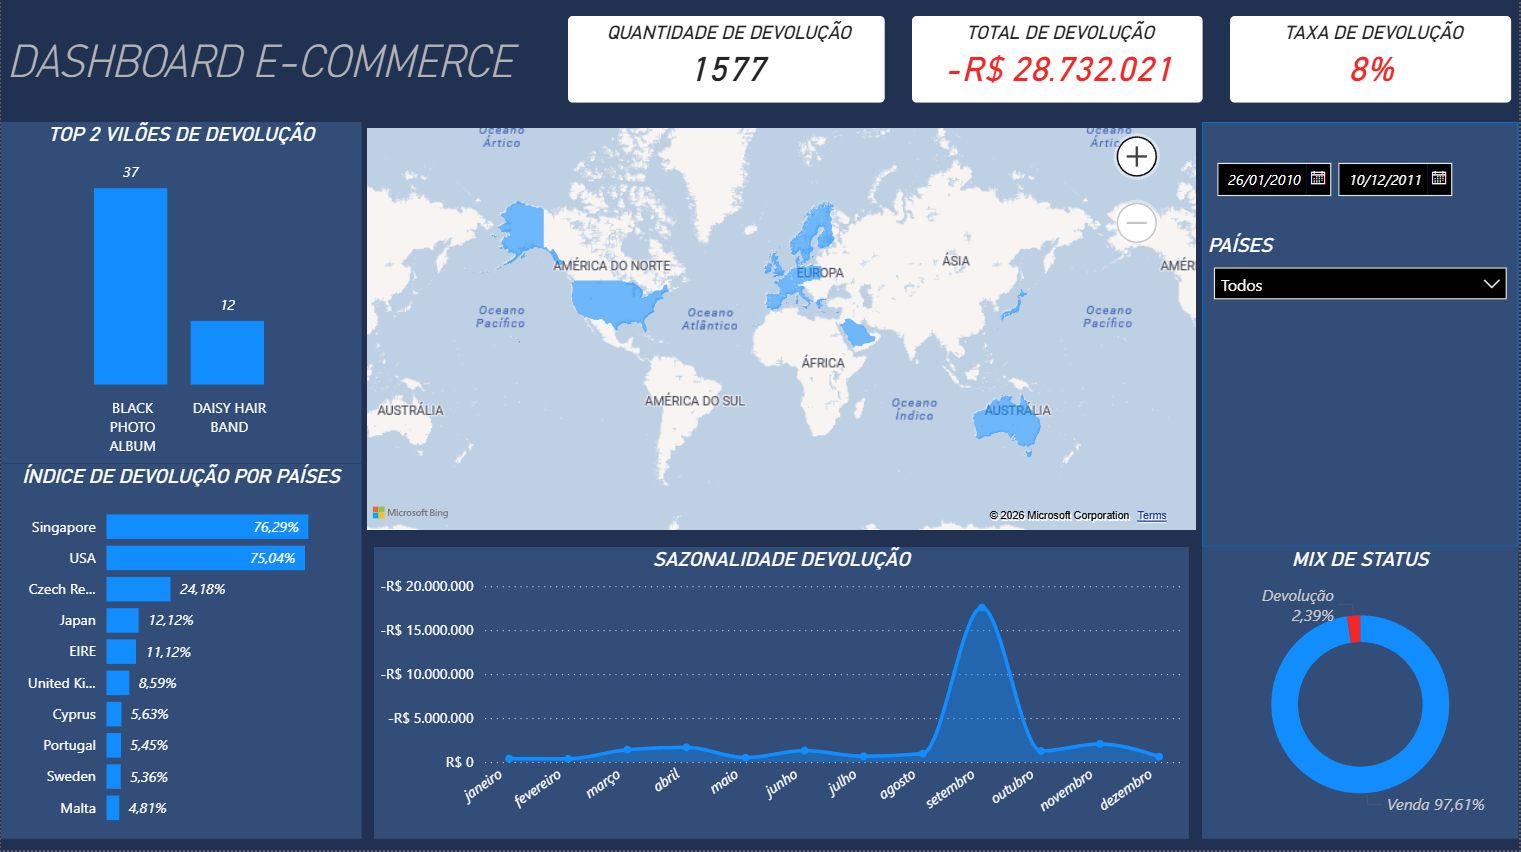

Layout of this report page (visuals, bound fields, positions):
{"tool":"powerbi","page":{"name":"ANÁLISE DE DEVOLUÇÃO","canvas":[1280,720],"ordinal":1},"visuals":[{"type":"barChart","title":"ÍNDICE DE DEVOLUÇÃO POR PAÍSES","fields":{"Category":["E_Commerce.Países"],"Y":["E_Commerce.Taxa_de_Devolucao %"]},"box":[0,394.9,303.6,316.1],"z":1},{"type":"card","title":"QUANTIDADE DE DEVOLUÇÃO","fields":{"Values":["E_Commerce.Qtd_Faturas_Devolvidas"]},"box":[478.2,17,266.9,73.4],"z":2},{"type":"columnChart","title":"TOP 2 VILÕES DE DEVOLUÇÃO","fields":{"Category":["E_Commerce.Descrição"],"Y":["E_Commerce.Total_DevoABS"]},"box":[0,106.6,303.6,288.4],"z":3},{"type":"areaChart","title":"SAZONALIDADE DEVOLUÇÃO","fields":{"Category":["E_Commerce.Data.Variation.Hierarquia de datas.Mês"],"Y":["E_Commerce.Total_Devolucoes"]},"box":[314.3,464.8,686.9,246.3],"z":4},{"type":"filledMap","fields":{"Category":["E_Commerce.Países"],"Y":["E_Commerce.Taxa_de_Devolucao %"]},"box":[303.6,106.6,709.3,349.3],"z":5},{"type":"donutChart","title":"MIX DE STATUS","fields":{"Category":["E_Commerce.Status"],"Y":["CountNonNull(E_Commerce.Faturamento)"]},"box":[1012.8,464.8,266.9,246.3],"z":6},{"type":"shape","box":[1012.8,106.6,266.9,358.2],"z":7},{"type":"slicer","fields":{"Values":["E_Commerce.Data"]},"box":[1012.8,130.7,266.9,69],"z":8},{"type":"card","title":"TOTAL DE DEVOLUÇÃO","fields":{"Values":["E_Commerce.Total_Devolucoes"]},"box":[768.4,17,245.4,73.4],"z":9},{"type":"card","title":"TAXA DE DEVOLUÇÃO","fields":{"Values":["E_Commerce.Taxa_de_Devolucao %"]},"box":[1036.1,17,243.6,73.4],"z":10},{"type":"textbox","box":[0,26.9,466.6,54.6],"z":11},{"type":"slicer","title":"PAÍSES","fields":{"Values":["E_Commerce.Países"]},"box":[1012.8,199.7,266.9,75.2],"z":12}]}

Visuals, with their boxes in screenshot pixels (x1, y1, x2, y2), scaled from the page's 1280x720 canvas onto the 1521x852 screenshot:
"ÍNDICE DE DEVOLUÇÃO POR PAÍSES" barChart: bbox=(0, 467, 361, 841)
"QUANTIDADE DE DEVOLUÇÃO" card: bbox=(568, 20, 885, 107)
"TOP 2 VILÕES DE DEVOLUÇÃO" columnChart: bbox=(0, 126, 361, 467)
"SAZONALIDADE DEVOLUÇÃO" areaChart: bbox=(373, 550, 1190, 841)
filledMap - E_Commerce.Países x E_Commerce.Taxa_de_Devolucao %: bbox=(361, 126, 1204, 539)
"MIX DE STATUS" donutChart: bbox=(1203, 550, 1520, 841)
shape: bbox=(1203, 126, 1520, 550)
slicer - E_Commerce.Data: bbox=(1203, 155, 1520, 236)
"TOTAL DE DEVOLUÇÃO" card: bbox=(913, 20, 1205, 107)
"TAXA DE DEVOLUÇÃO" card: bbox=(1231, 20, 1520, 107)
textbox: bbox=(0, 32, 554, 96)
"PAÍSES" slicer: bbox=(1203, 236, 1520, 325)
